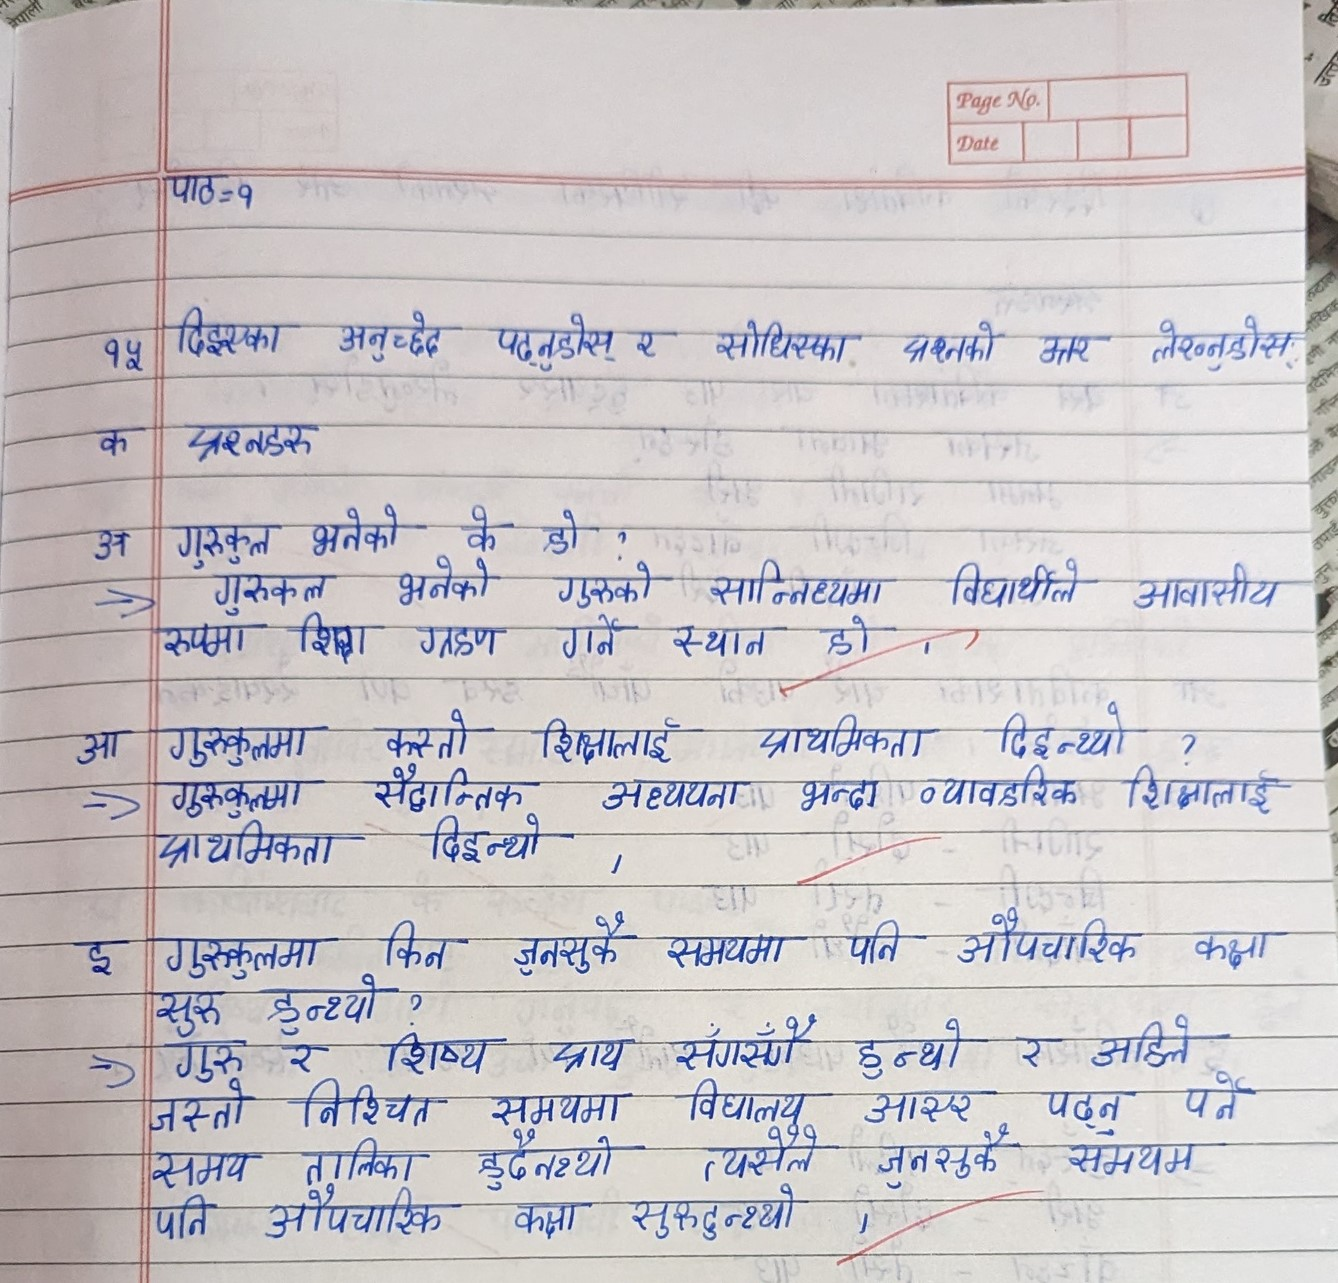text: (947, 904, 1144, 966), (145, 819, 370, 872), (698, 305, 869, 372), (520, 705, 698, 768), (664, 1006, 827, 1075), (1122, 759, 1287, 825), (475, 1129, 646, 1193), (1147, 307, 1302, 377), (633, 1184, 810, 1245), (268, 1186, 452, 1242), (873, 1128, 1027, 1193), (698, 557, 890, 609), (162, 711, 327, 769), (416, 814, 583, 871), (756, 712, 935, 765), (483, 309, 622, 376), (287, 1079, 458, 1132), (984, 706, 1155, 759), (366, 765, 540, 814), (501, 914, 638, 976), (148, 931, 330, 976), (1131, 561, 1288, 614), (691, 1127, 840, 1181), (297, 499, 434, 559), (172, 291, 288, 361), (941, 555, 1103, 604), (329, 303, 455, 366), (257, 977, 391, 1035), (659, 920, 808, 971), (913, 766, 1090, 809), (849, 1021, 977, 1079), (378, 1026, 513, 1080), (297, 1132, 432, 1186), (148, 776, 317, 819), (891, 311, 1002, 374), (1090, 1015, 1229, 1066), (593, 772, 754, 815), (677, 1082, 831, 1125), (177, 413, 326, 458), (1179, 921, 1299, 976), (372, 705, 484, 759), (483, 1086, 630, 1127), (410, 612, 515, 668), (1066, 1141, 1207, 1183), (173, 514, 281, 567), (149, 1081, 260, 1132), (860, 1086, 1003, 1125), (205, 570, 331, 614), (151, 620, 276, 664), (1037, 1082, 1144, 1131), (545, 609, 640, 664), (378, 921, 479, 972), (659, 620, 787, 661), (388, 558, 499, 604), (552, 561, 659, 609), (1174, 1069, 1258, 1127), (1027, 325, 1123, 374), (843, 917, 931, 968), (151, 986, 237, 1035), (293, 610, 373, 663), (816, 613, 901, 662), (148, 1149, 264, 1185), (540, 498, 604, 560), (158, 155, 223, 216), (544, 1032, 642, 1072), (514, 1195, 600, 1239), (796, 776, 886, 818), (65, 923, 131, 980), (450, 497, 518, 552), (151, 1193, 226, 1242), (162, 1036, 250, 1078), (69, 722, 145, 766), (74, 516, 140, 566), (1009, 1023, 1070, 1072), (91, 418, 147, 464), (105, 323, 148, 376), (277, 1037, 331, 1076), (627, 324, 675, 368), (228, 170, 265, 211)
